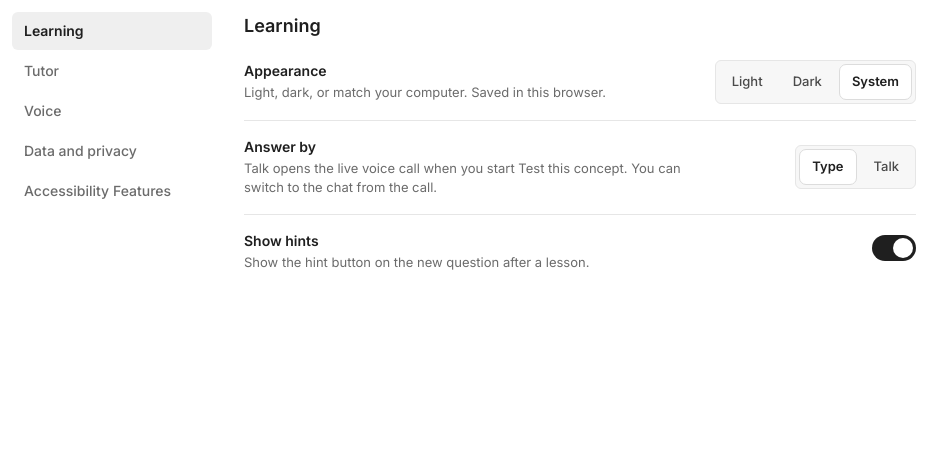
it: tutor and voice settings › puts the old value back when saving fails
Click the tab "Tutor" at (112, 71), box [12,52,212,90]
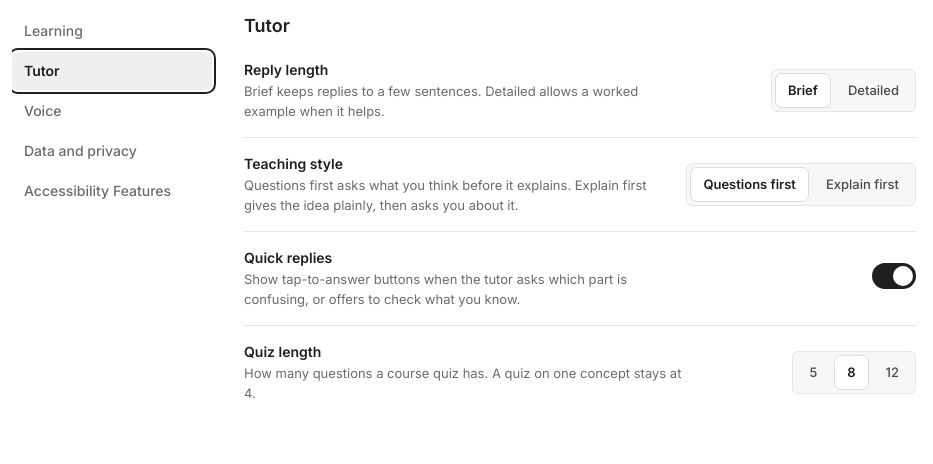
Click the button "Detailed" at (873, 91), box [835,73,912,108]
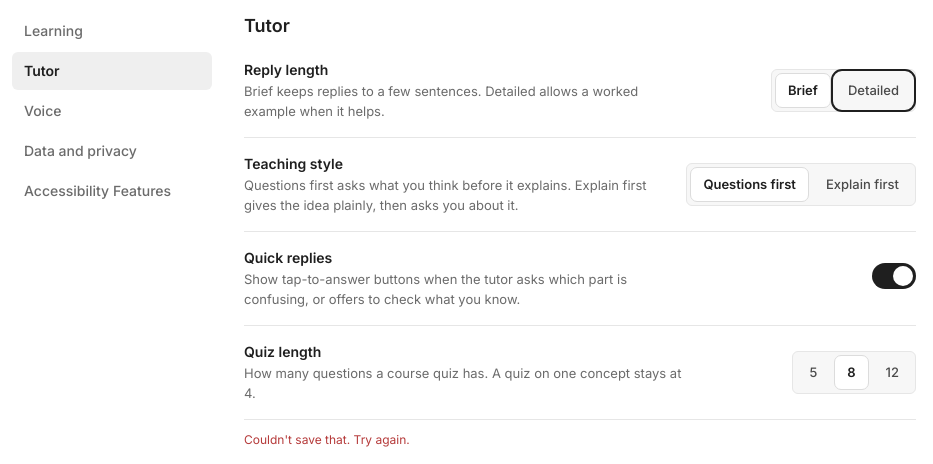
Now the message "Couldn't save that. Try again." is shown, box [244,432,410,447]
